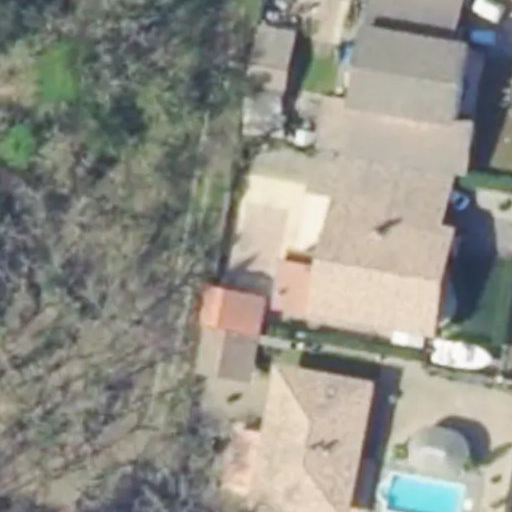pool: (381, 471, 472, 511)
